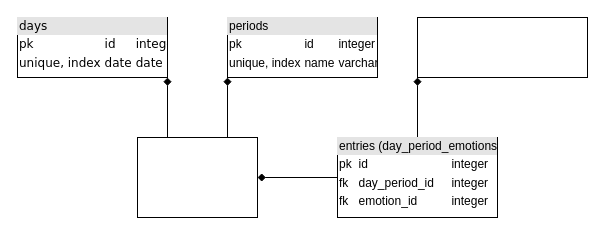
Image size: 605x235. Some labels were removed from this diagram. The shapes that lost their labels are listed below. From the top down, each one's box as (x1, y1, x2, y2) in pixels, then its label:
(416, 16, 588, 78): emotions pk id integer unique, index name varchar
(136, 136, 258, 218): day_periods pk id integer fk day_id integer fk period_id integer
